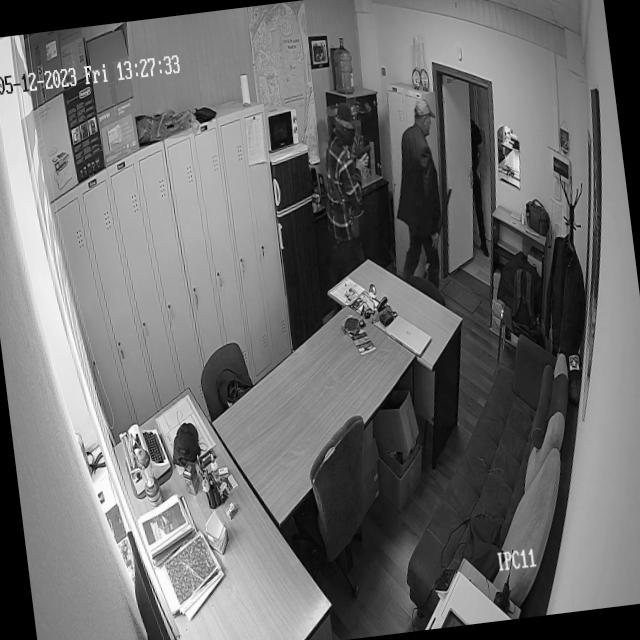gun: (352, 140, 373, 170)
person: (386, 94, 461, 274)
person with a gun: (312, 95, 384, 262)
